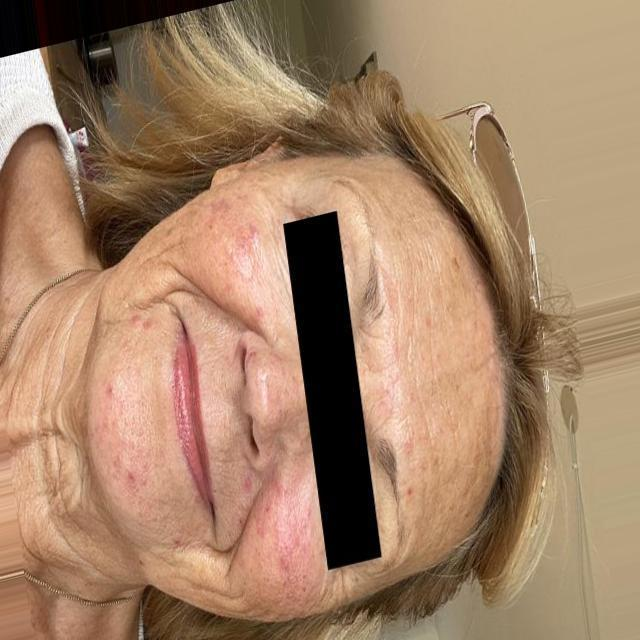Rosacea: (99, 314, 184, 564), (208, 202, 283, 318), (268, 471, 316, 607)
